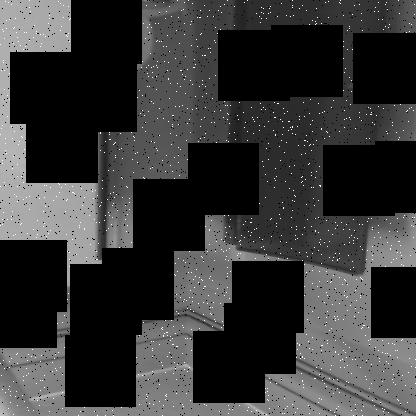Porte: (95, 1, 393, 279)
